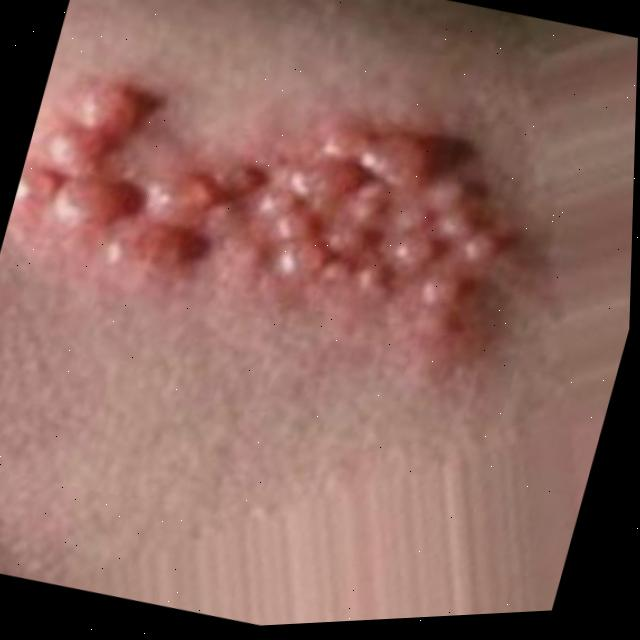Shingles: (0, 29, 537, 376)
